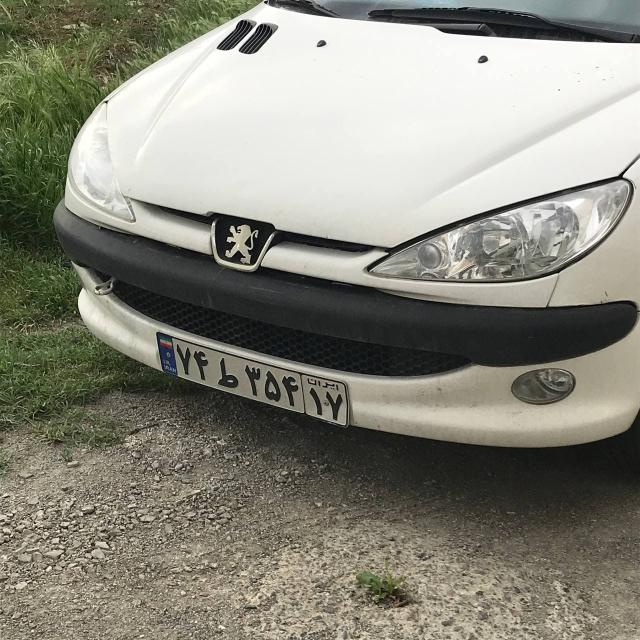Plates: (147, 334, 356, 426)
